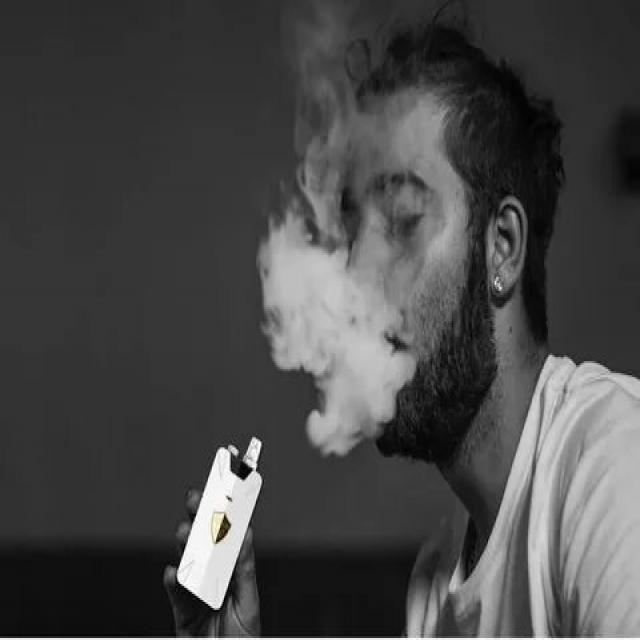smoke: (169, 427, 271, 612)
